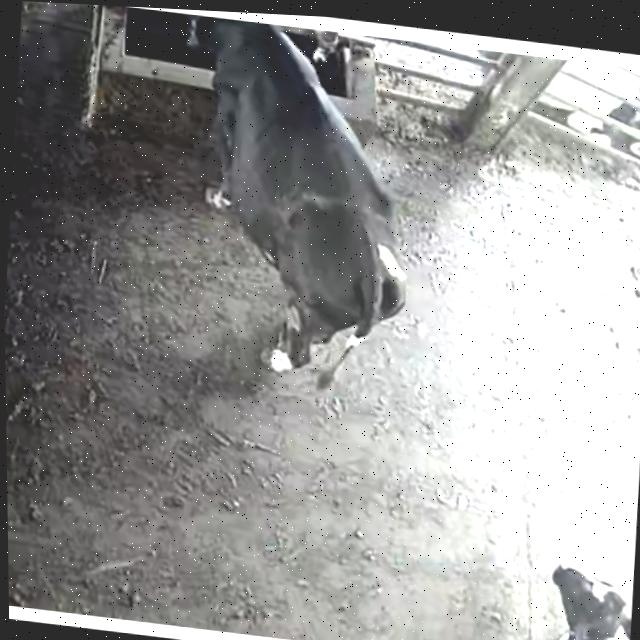drink: (143, 7, 324, 125)
